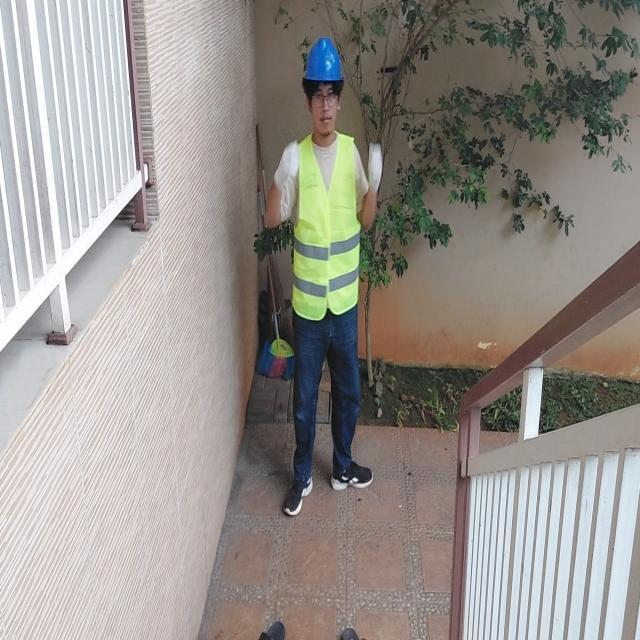Capacete: (304, 37, 342, 81)
Colete: (292, 133, 360, 319)
